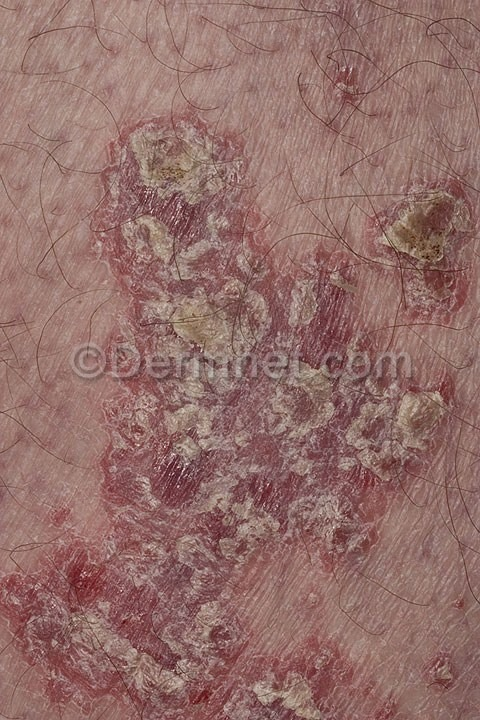Psoriasis: (83, 115, 458, 554), (13, 504, 339, 719)
